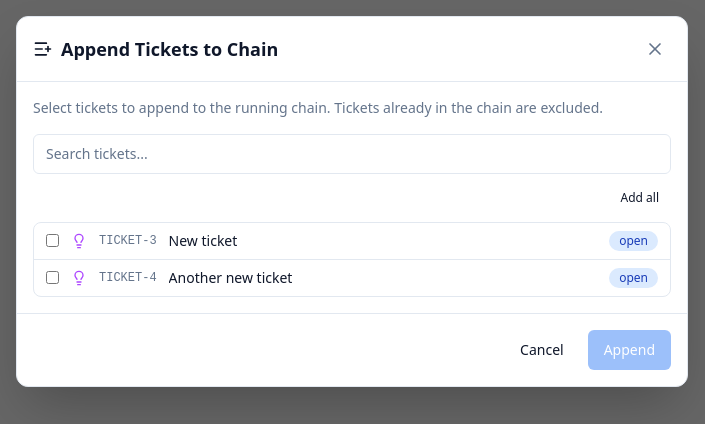
Test: AppendToChainDialog - Submit Behavior › Append button is enabled when tickets are selected
Click the checkbox labelled "TICKET-3 New ticket open" at (52, 240), box x1=46 y1=234 x2=59 y2=247
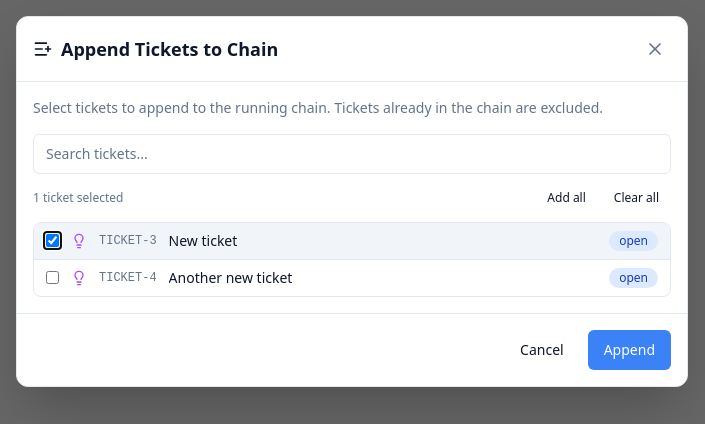
Now the button "Append" is enabled, box x1=588 y1=330 x2=671 y2=370
